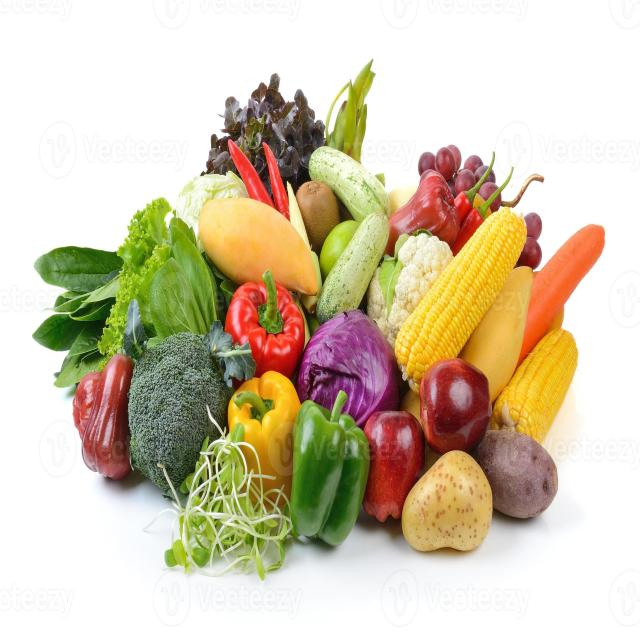organic: (30, 49, 602, 585)
